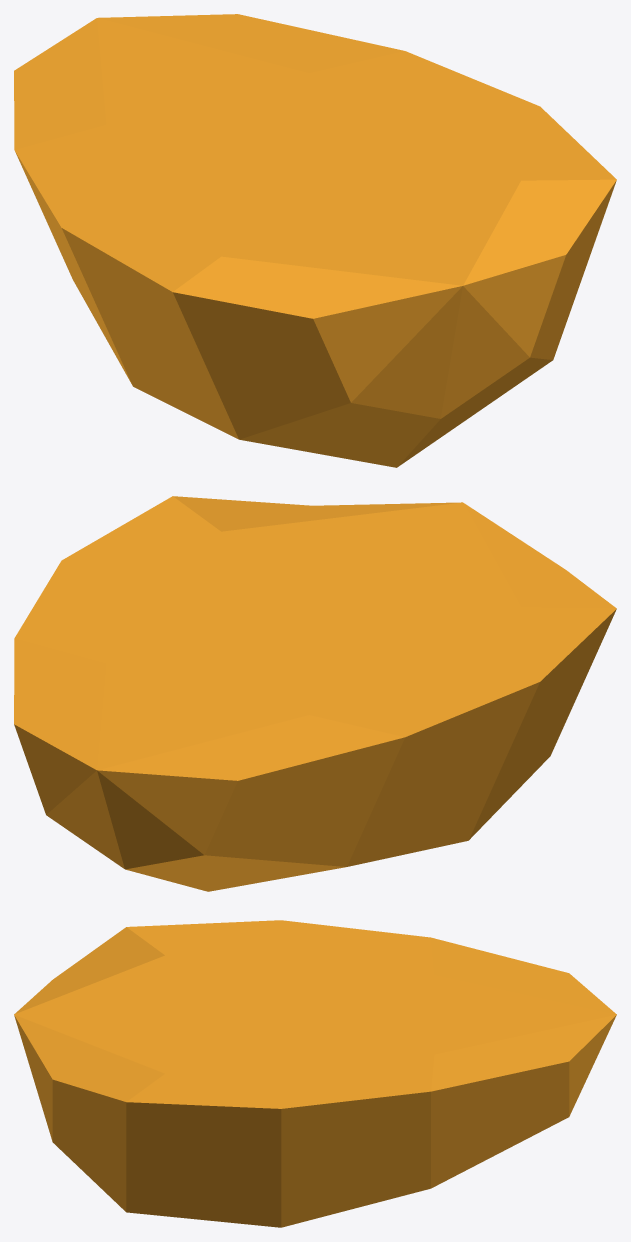
The model's file is SM_Half_Egg.fbx.
3 renders of one model, top to bottom at view 1: azimuth 30°, elevation 25°; view 2: azimuth 150°, elevation 25°; view 3: azimuth 270°, elevation 25°, orthographic. The views are drawn at different scales.
Visible parts, largest first — view 1: half-egg; view 2: half-egg; view 3: half-egg.
Boxes of the visible parts, x1,y1,x2,y2 form: half-egg: [14, 14, 616, 467]; half-egg: [14, 496, 616, 891]; half-egg: [14, 920, 616, 1227].
Bounding box in the file's own units: 0.0736 × 0.0371 × 0.0975.
